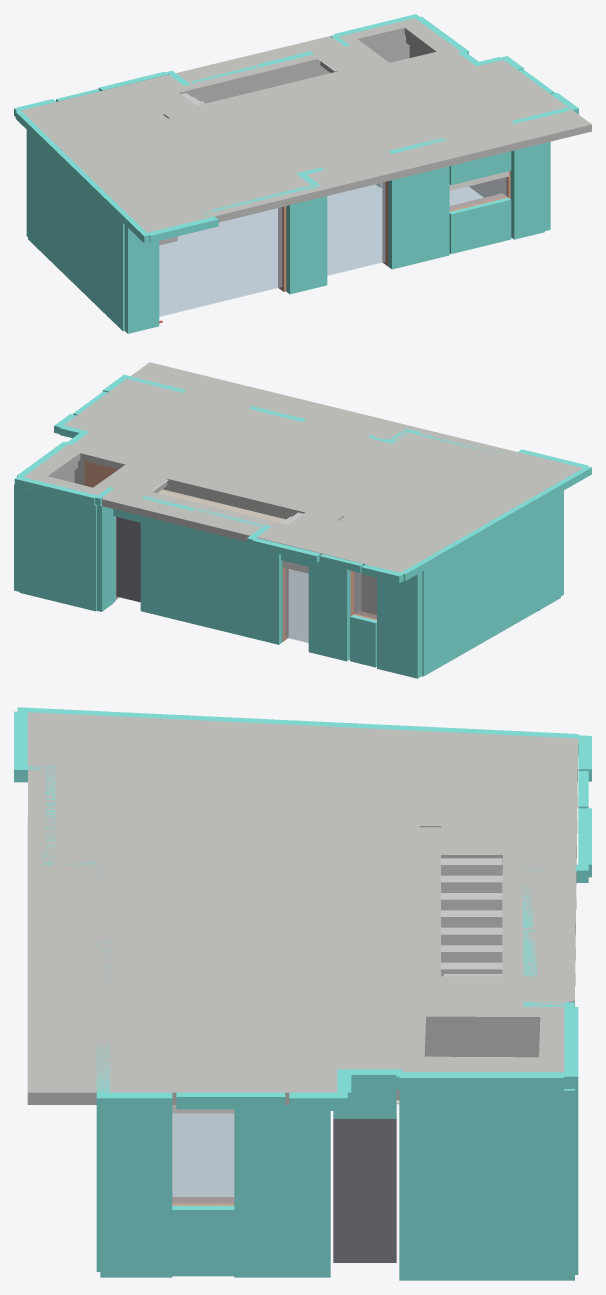
The model's file is House_AR_GF.glb.
3 views of the same model, one above another, from view 1: azimuth 30°, elevation 25°; view 2: azimuth 150°, elevation 25°; view 3: azimuth 270°, elevation 25° (orthographic). The views are drawn at different scales.
Parts seen in each view (by area): view 1: F1-SB01, GF-ET12, GF-EO06, GF-ET07, GF-EO05, GF-ET09, GF-ET13, GF-ET05, GF-EO04-SILL-ET, F1-ET06, GF-BEAM05, GF-EO04-HEAD-ET (+6 smaller); view 2: F1-SB01, GF-ET12, GF-ET08, GF-ET02, GF-ET11, GF-ET10, F1-ET06, GF-ET03, GF-AD01, GF-EO02, GF-EO01-SILL-ET, GF-EO01 (+10 smaller); view 3: F1-SB01, GF-ET01, GF-ET04, GF-ET06, GF-AD02, GF-ST01, GF-EO03, GF-EO03-SILL-ET, F1-ET13, F1-ET06, GF-COL06, F1-EO04-SILL-ET (+10 smaller).
Boxes of the visible parts, x1,y1,x2,y2 form: F1-SB01: (21, 18, 591, 232); GF-ET12: (28, 131, 124, 330); GF-EO06: (159, 207, 282, 316); GF-ET07: (388, 166, 449, 269); GF-EO05: (327, 182, 385, 275); GF-ET09: (286, 196, 327, 294); GF-ET13: (124, 225, 159, 333); GF-ET05: (510, 143, 544, 239); GF-EO04-SILL-ET: (449, 197, 511, 253); F1-ET06: (15, 110, 149, 243); GF-BEAM05: (192, 65, 329, 103); GF-EO04-HEAD-ET: (449, 151, 511, 184); F1-SB01: (24, 362, 583, 572); GF-ET12: (423, 492, 560, 676); GF-ET08: (140, 516, 282, 644); GF-ET02: (19, 487, 96, 611); GF-ET11: (377, 571, 423, 678); GF-ET10: (308, 561, 350, 661); F1-ET06: (401, 466, 591, 580); GF-ET03: (96, 504, 115, 611); GF-AD01: (116, 517, 140, 602); GF-EO02: (284, 568, 308, 642); GF-EO01-SILL-ET: (350, 615, 376, 667); GF-EO01: (354, 571, 376, 619); F1-SB01: (27, 712, 578, 1104); GF-ET01: (399, 1089, 574, 1280); GF-ET04: (234, 1105, 330, 1277); GF-ET06: (100, 1111, 172, 1277); GF-AD02: (333, 1119, 396, 1262); GF-ST01: (441, 858, 502, 976); GF-EO03: (172, 1113, 234, 1204); GF-EO03-SILL-ET: (172, 1205, 234, 1276); F1-ET13: (402, 1072, 564, 1090); F1-ET06: (17, 707, 578, 738); GF-COL06: (425, 1029, 502, 1056); F1-EO04-SILL-ET: (176, 1092, 285, 1109).
Bounding box in the file's own units: 13.45 × 3.25 × 8.4.
